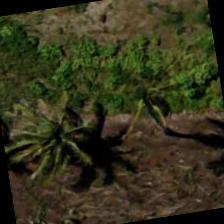Kelapa_Sawit: (9, 87, 112, 190)
